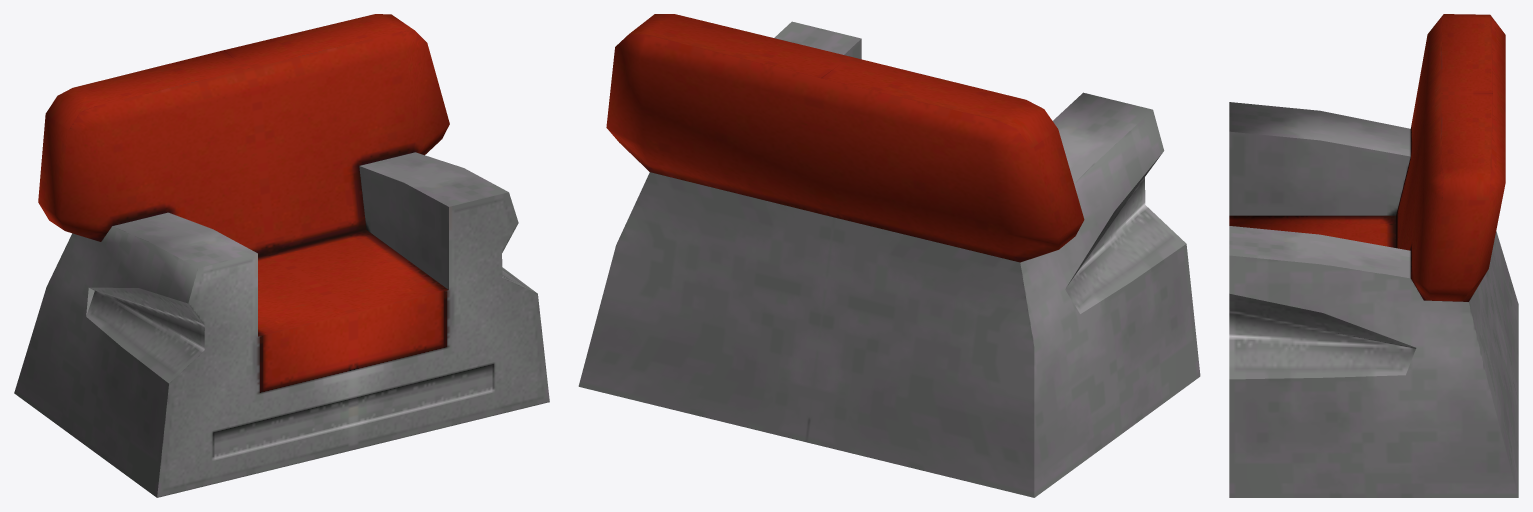
Rendered from eqp_jedi_council_seat_s1_l0.fbx.
3 views of the same model, side by side, from view 1: azimuth 30°, elevation 25°; view 2: azimuth 150°, elevation 25°; view 3: azimuth 270°, elevation 25° (orthographic). The views are drawn at different scales.
Visible parts, largest first — view 1: mesh_node; view 2: mesh_node; view 3: mesh_node.
Part boxes in pixels (x1,y1,x2,y2): mesh_node: (14,14,549,497); mesh_node: (578,14,1200,497); mesh_node: (1229,14,1518,497).
Size of the model in its own units: 1.59 by 1.17 by 1.
